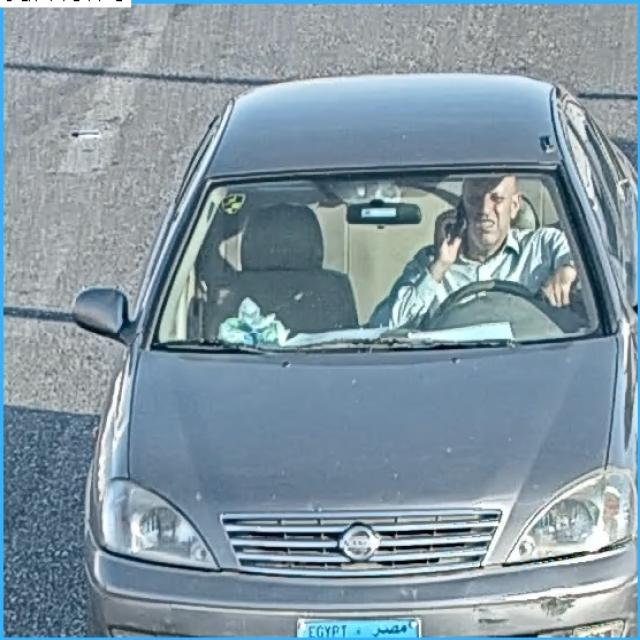windshield: (149, 163, 610, 362)
